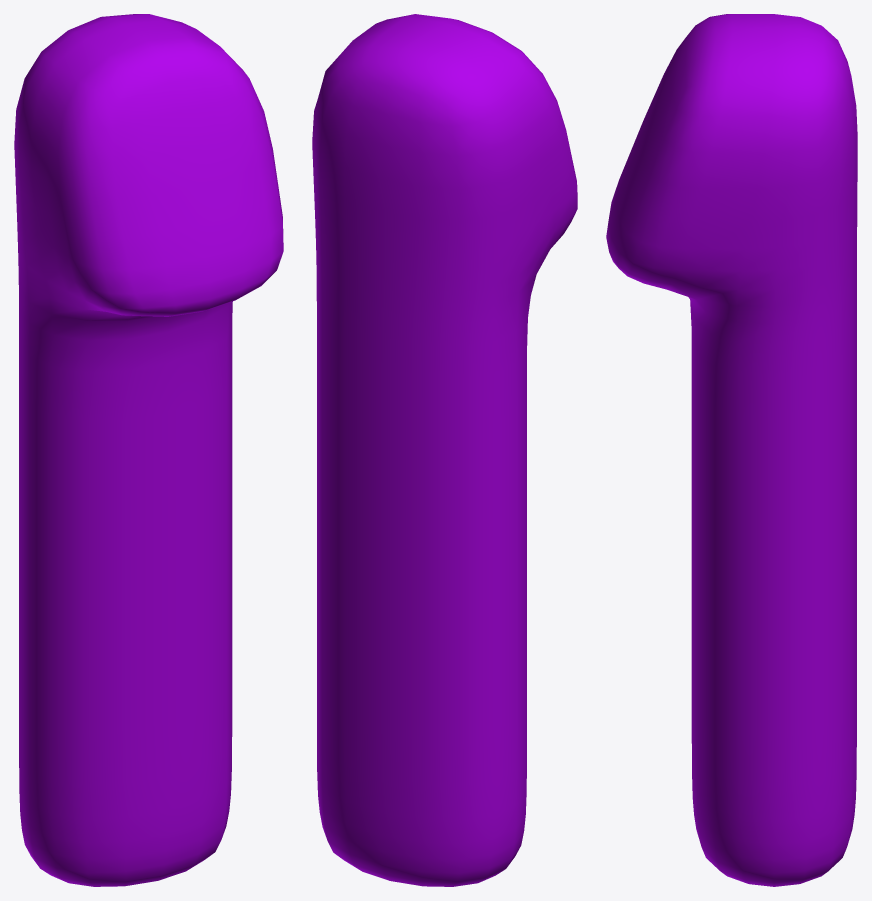
File: OneBalloon.fbx
3 views of the same model, side by side, from view 1: azimuth 30°, elevation 25°; view 2: azimuth 150°, elevation 25°; view 3: azimuth 270°, elevation 25° (orthographic).
Visible parts, largest first — view 1: One; view 2: One; view 3: One.
Boxes of the visible parts, x1,y1,x2,y2 form: One: [14, 14, 283, 886]; One: [312, 14, 577, 886]; One: [606, 14, 857, 886].
Bounding box in the file's own units: 20 × 78.47 × 21.44.
